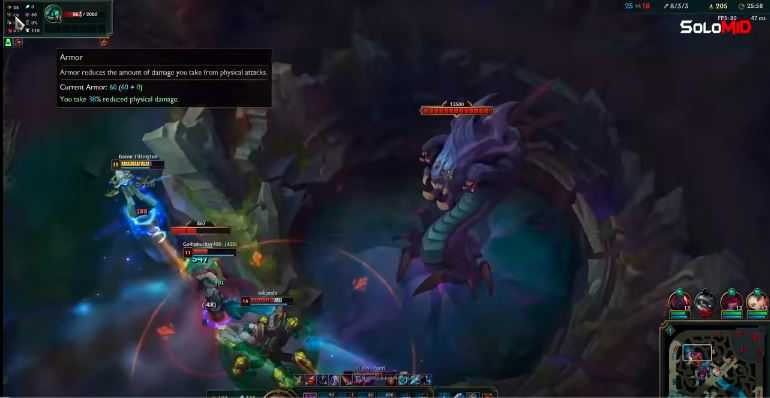bar: (105, 156, 167, 172), (239, 293, 296, 308), (182, 246, 240, 259)
